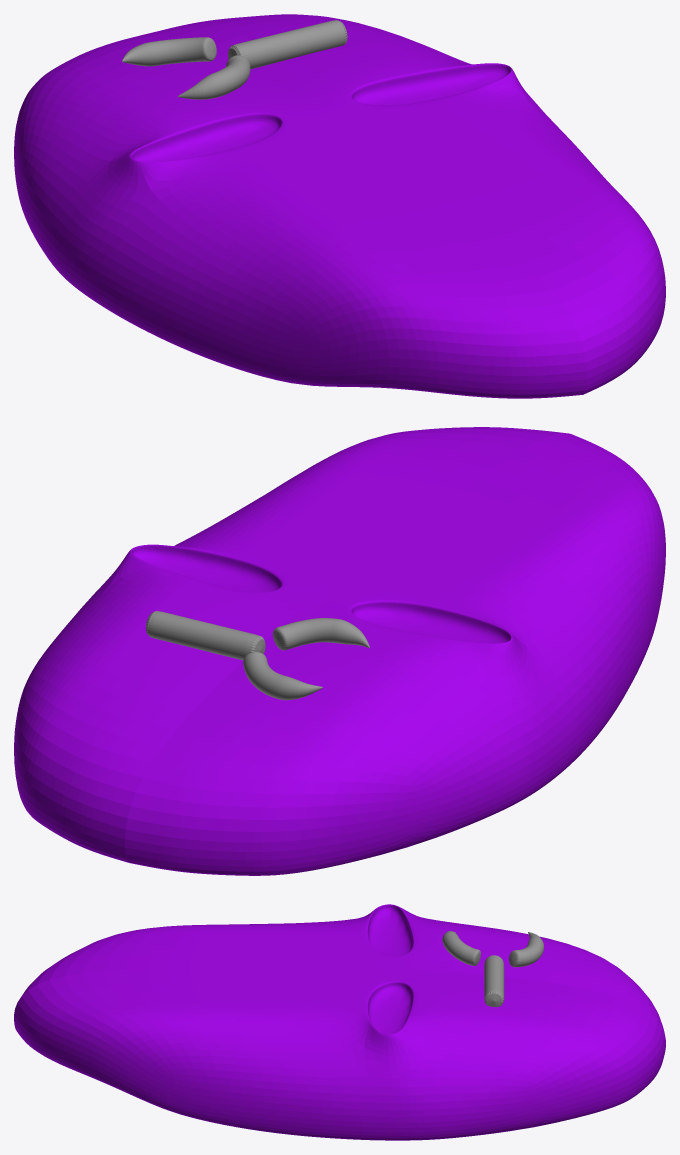
File: 1.Mask.Grapple.1.fbx
3 renders of one model, top to bottom at view 1: azimuth 30°, elevation 25°; view 2: azimuth 150°, elevation 25°; view 3: azimuth 270°, elevation 25°, orthographic. The views are drawn at different scales.
Visible parts, largest first — view 1: Cube, Cylinder, hook.001, hook; view 2: Cube, Cylinder, hook, hook.001; view 3: Cube, Cylinder, hook, hook.001.
Part boxes in pixels (x1,y1,x2,y2): Cube: [14, 14, 665, 398]; Cylinder: [228, 20, 347, 69]; hook.001: [122, 37, 216, 66]; hook: [177, 55, 250, 99]; Cube: [14, 427, 665, 875]; Cylinder: [146, 611, 265, 660]; hook: [273, 618, 369, 650]; hook.001: [243, 652, 322, 700]; Cube: [14, 904, 665, 1140]; Cylinder: [484, 955, 504, 1007]; hook: [442, 931, 480, 965]; hook.001: [509, 932, 543, 967].
Bounding box in the file's own units: 299 × 92.26 × 507.
